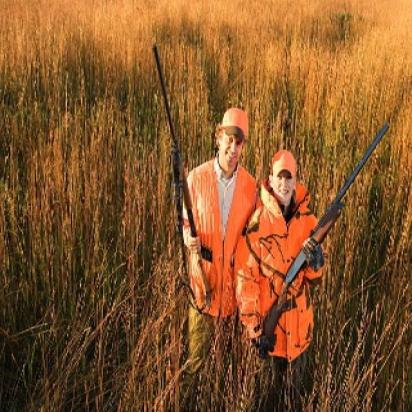Gun: (248, 121, 393, 359), (146, 42, 213, 313)
